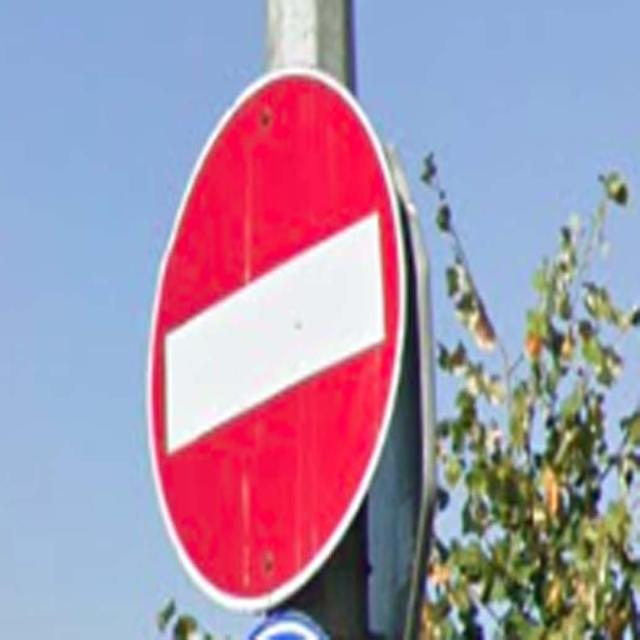girisyok: (144, 68, 406, 601)
